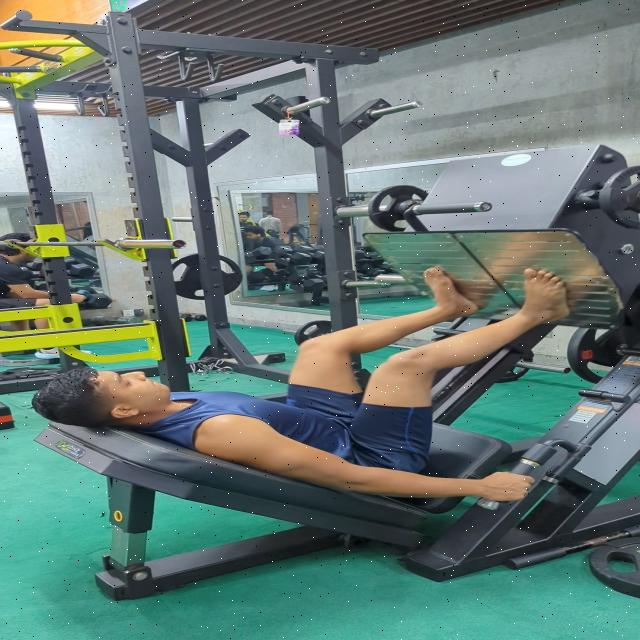Normal_LegPress: (41, 262, 586, 525)
